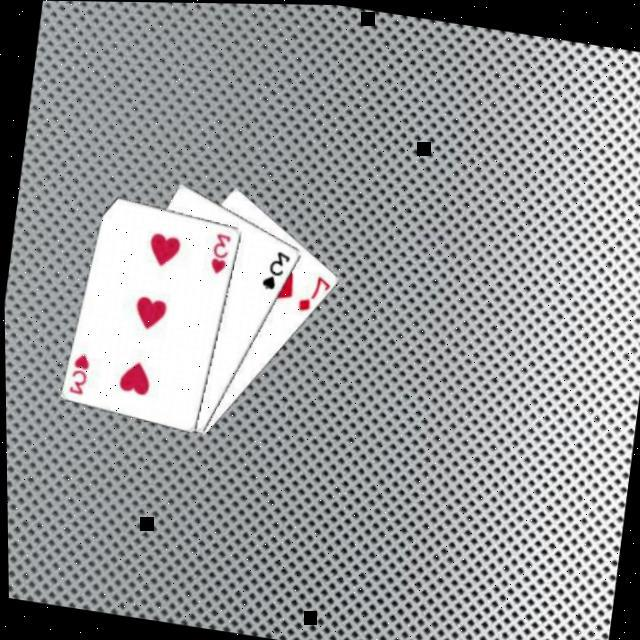3H: (62, 349, 91, 399), (204, 229, 232, 278)
3S: (255, 246, 292, 294)
7D: (290, 270, 331, 317)
